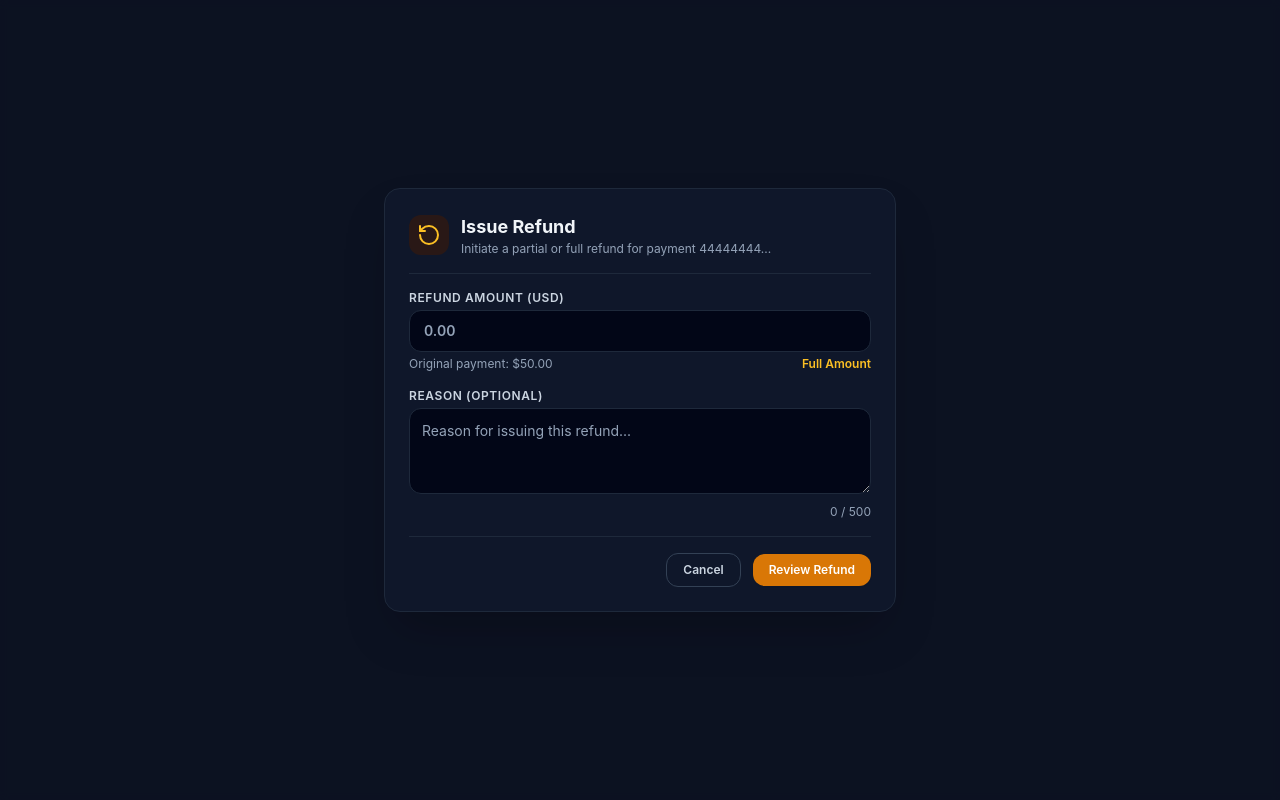
Test: RefundModal Component › displays validation error when amount is invalid
Type "abc" into the field labelled "Refund Amount (USD)" at (640, 331), box [409,310,871,352]
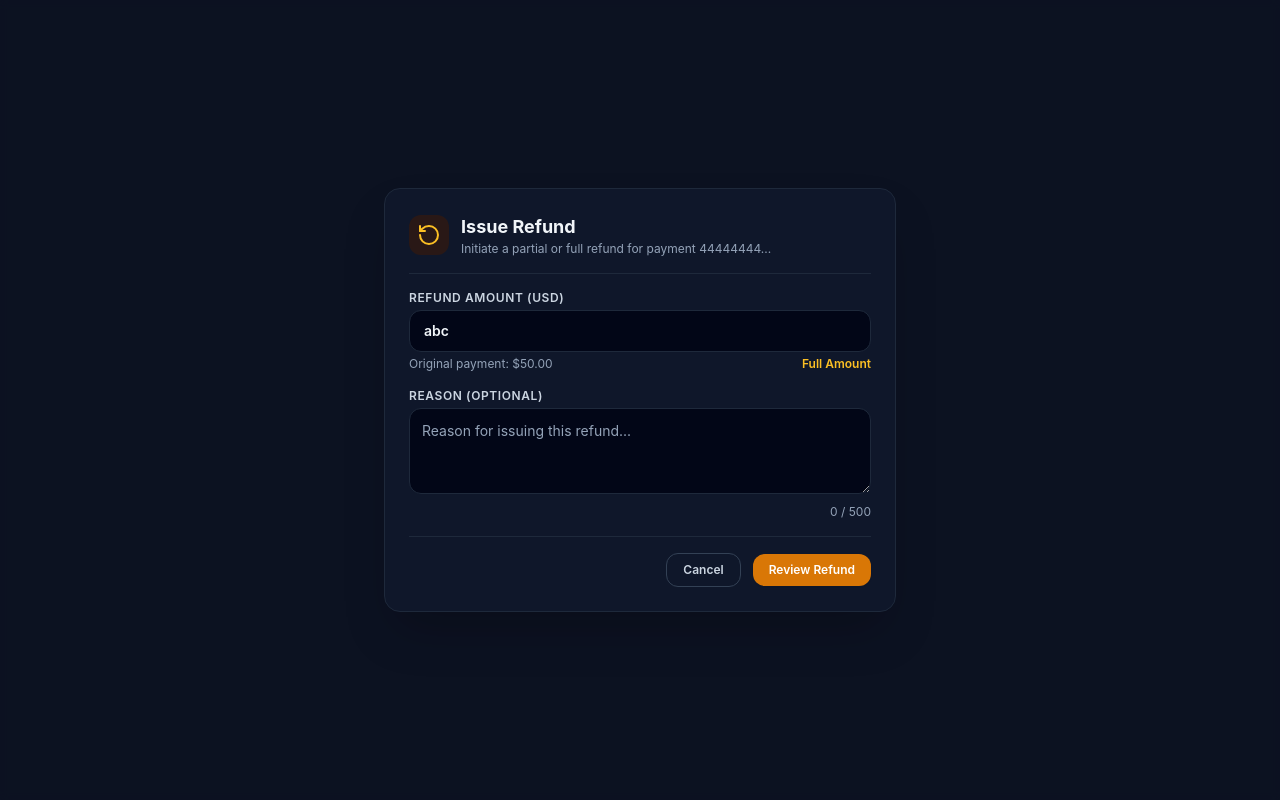
Click the button with test id "refund-review-button" at (812, 570), box [753,554,871,586]
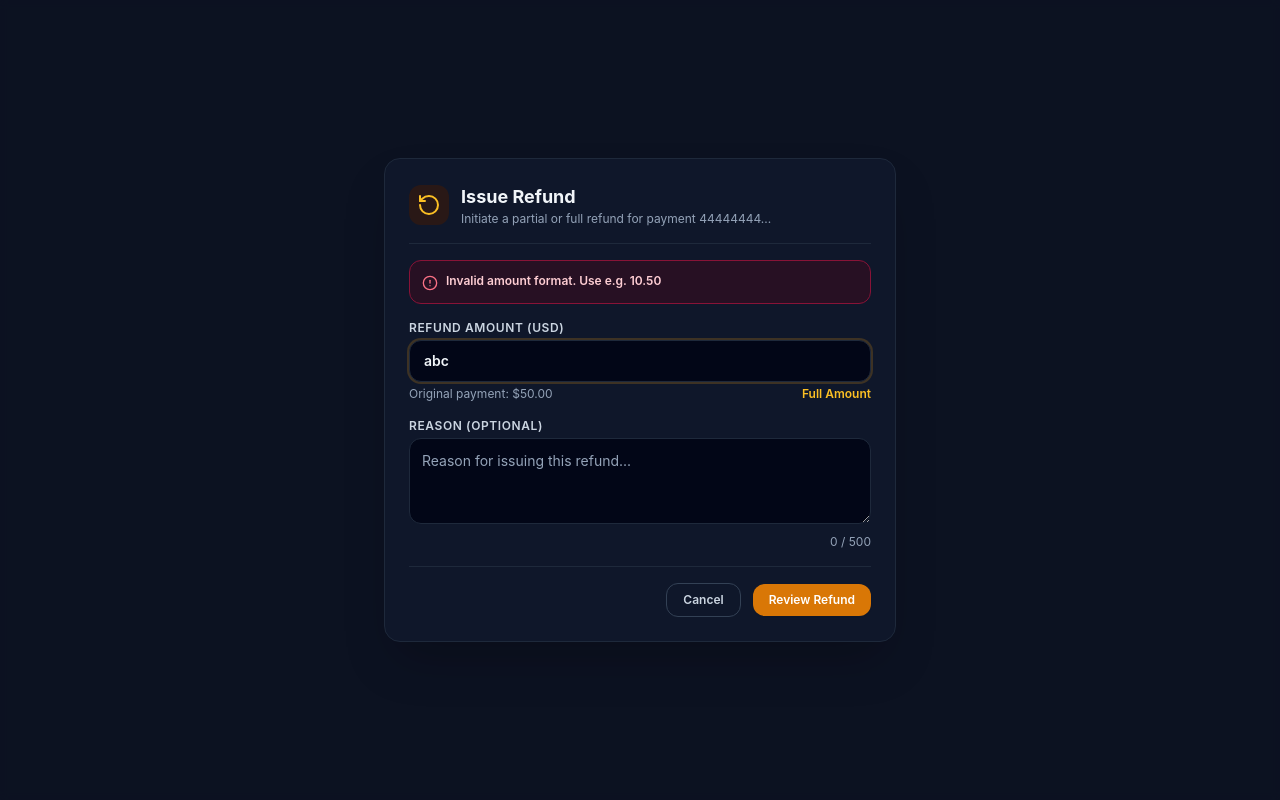
Now the message "Invalid amount format. Use e.g. 10.50" is shown, box [409,260,871,304]
